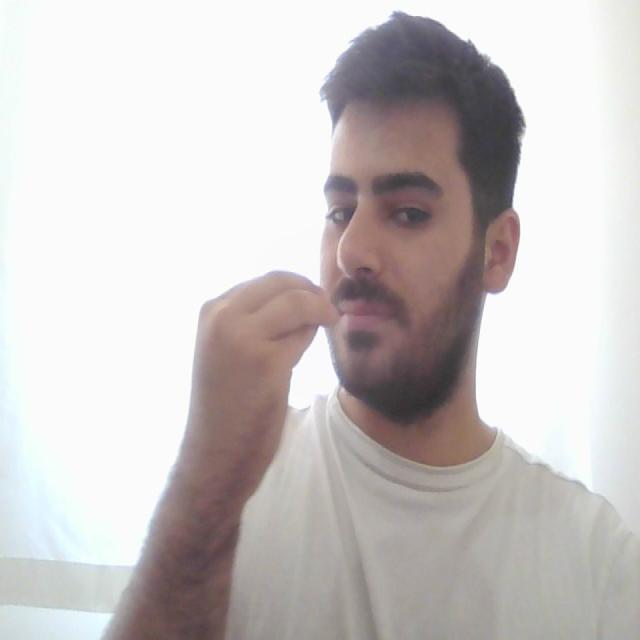Yemek: (187, 265, 390, 350)
